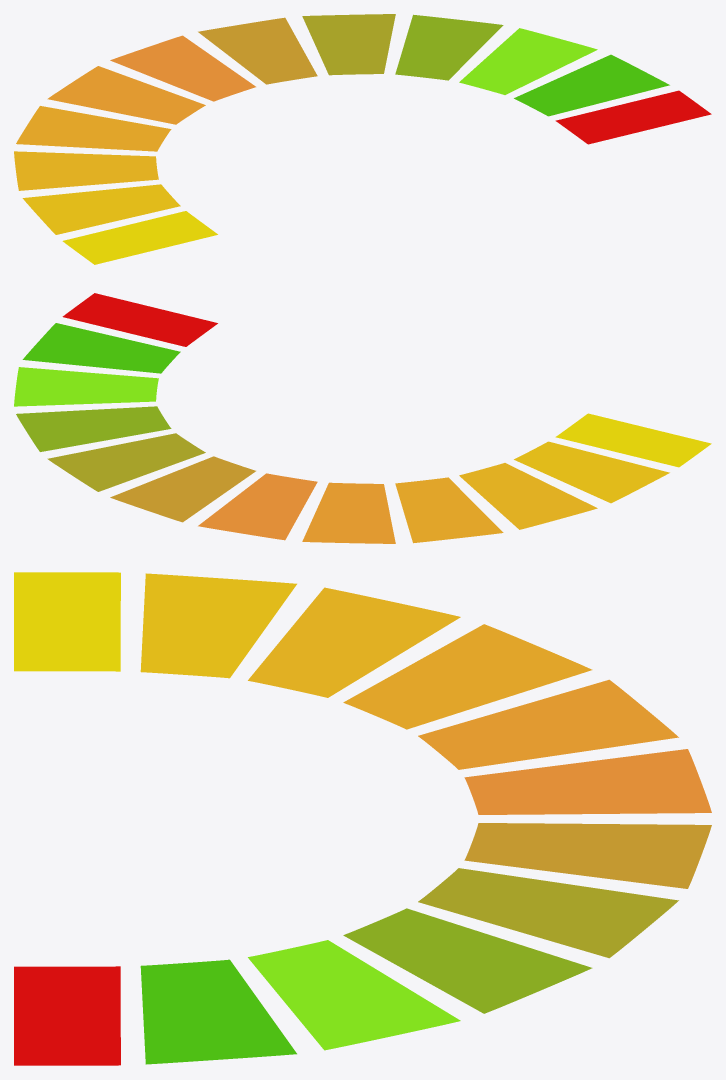
File: shade card 2.fbx
The picture shows the model from 3 angles, top to bottom: view 1: azimuth 30°, elevation 25°; view 2: azimuth 150°, elevation 25°; view 3: azimuth 270°, elevation 25°; orthographic projection. The views are drawn at different scales.
Visible parts, largest first — view 1: shade card; view 2: shade card; view 3: shade card.
Part boxes in pixels (x1,y1,x2,y2): shade card: [14, 14, 711, 264]; shade card: [14, 293, 711, 543]; shade card: [14, 572, 711, 1065].
Bounding box in the file's own units: 180 × 2e-05 × 108.
